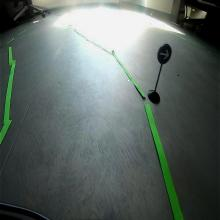right: (158, 44, 172, 64)
